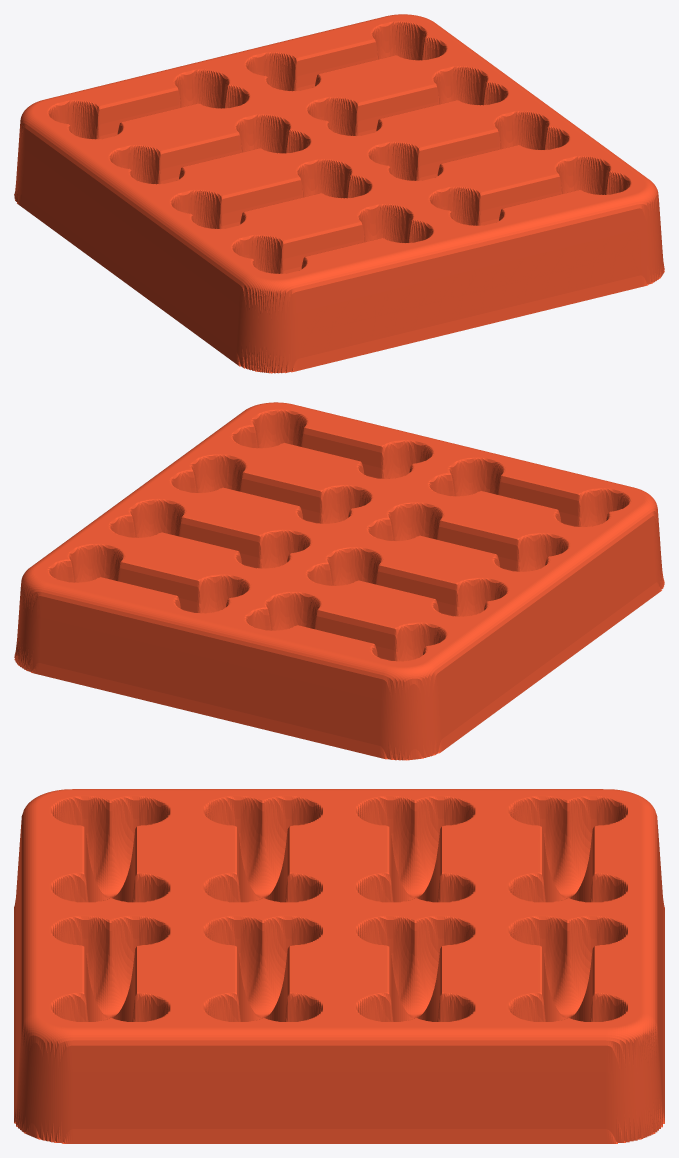
The model's file is mold.glb.
3 views of the same model, one above another, from view 1: azimuth 30°, elevation 25°; view 2: azimuth 150°, elevation 25°; view 3: azimuth 270°, elevation 25° (orthographic). The views are drawn at different scales.
Parts seen in each view (by area): view 1: geometry_0; view 2: geometry_0; view 3: geometry_0.
Part boxes in pixels (x1,y1,x2,y2): geometry_0: (14, 14, 664, 373); geometry_0: (14, 402, 664, 760); geometry_0: (14, 789, 664, 1143).
Bounding box in the file's own units: 0.0945 × 0.0182 × 0.1012.
